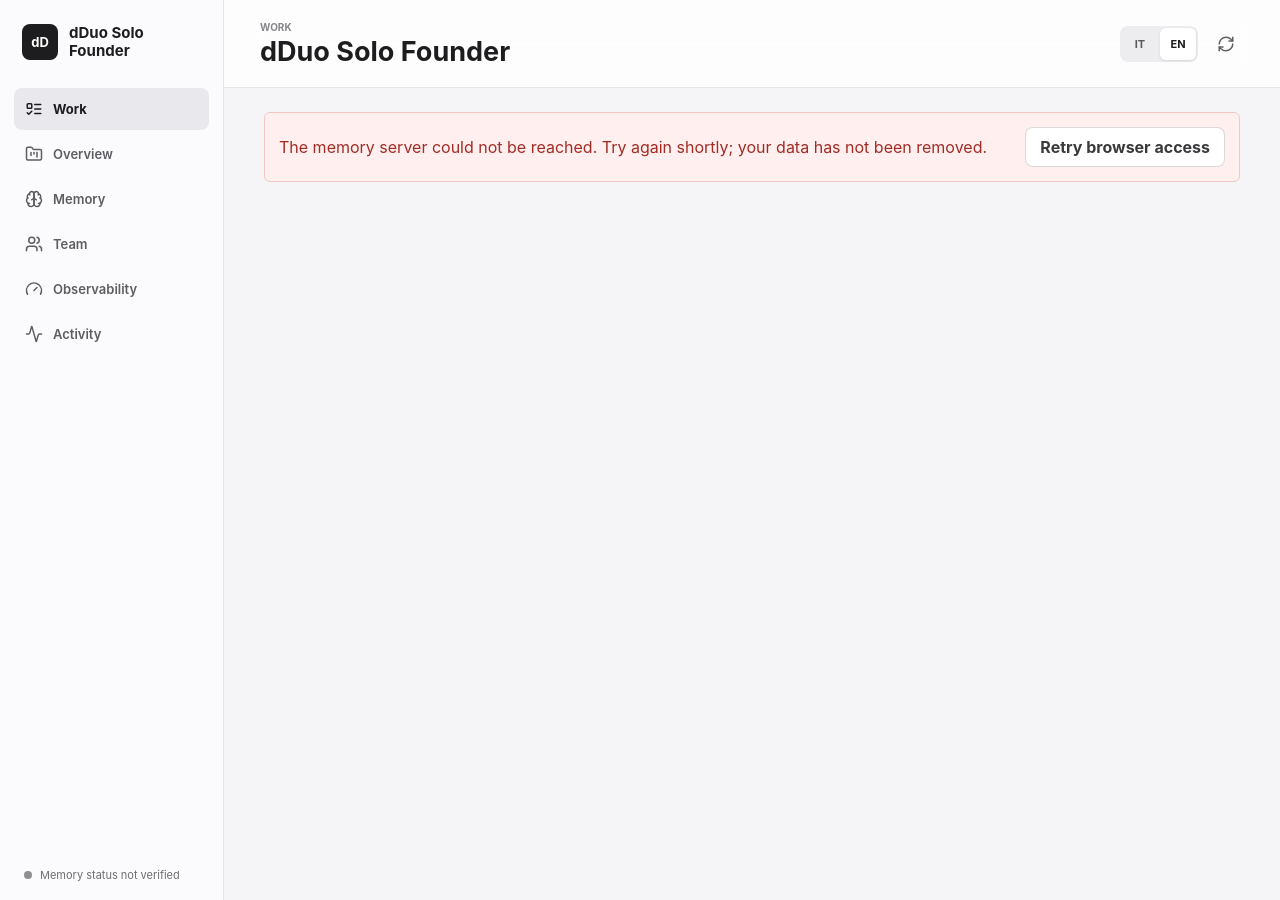
Scenario: App › retries a transient browser-ticket exchange through Refresh current view without restoring the secret to the URL
Expected: the message shows "The memory server could not be reached", [279, 137, 987, 157]
Click the button named "Refresh current view". click: (1226, 44)
box: [1208, 26, 1244, 62]
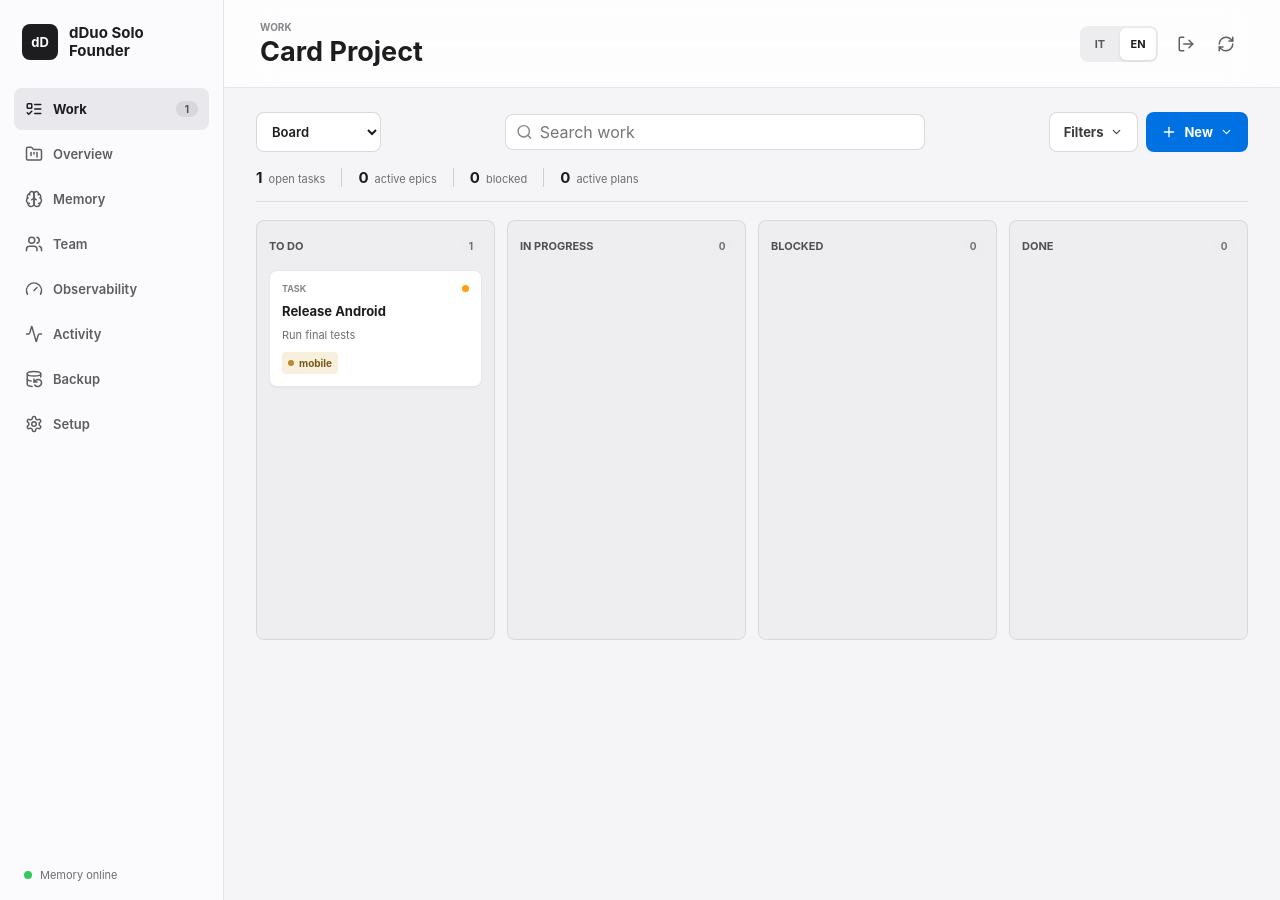
Expected: the text "Release Android" is shown, [282, 303, 386, 319]
